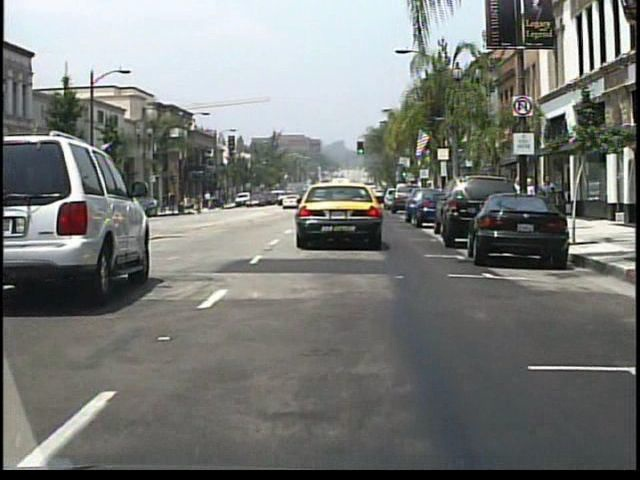person: (536, 170, 557, 225), (522, 178, 537, 217), (215, 194, 222, 211)
